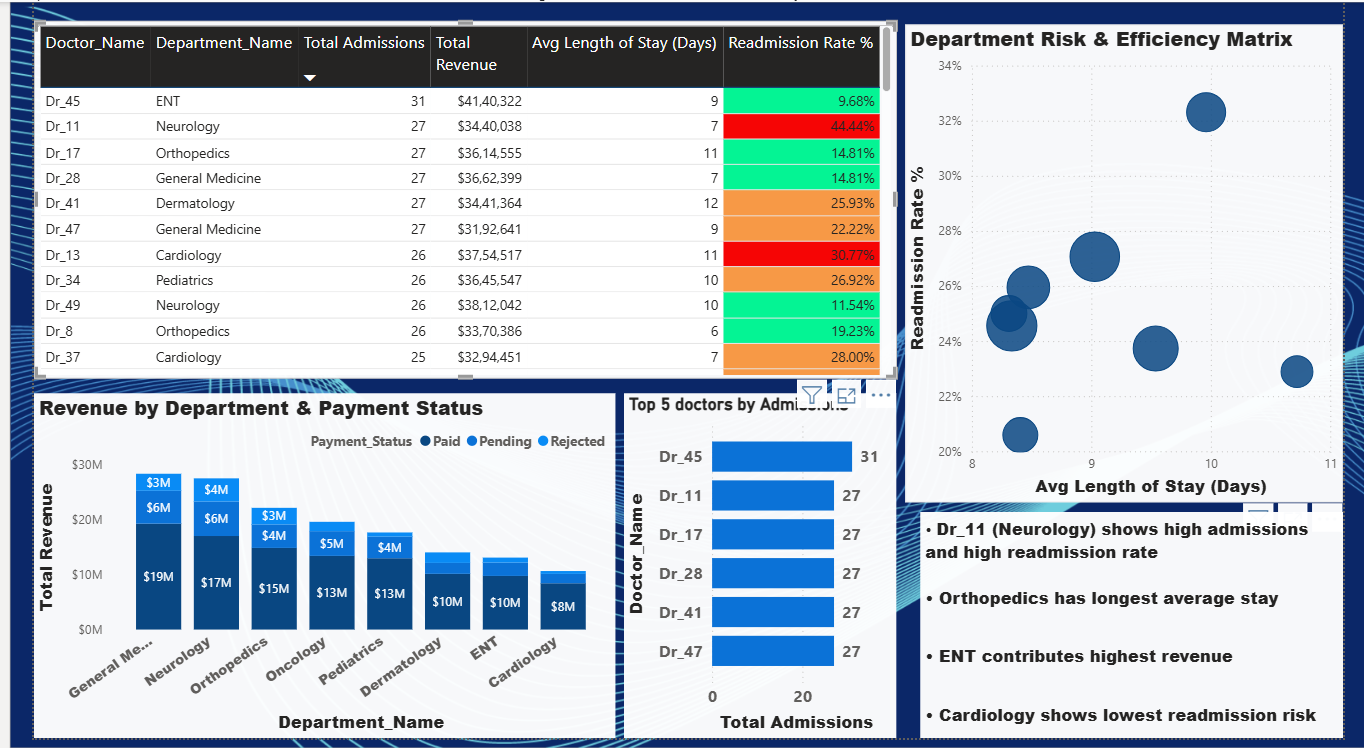

This screenshot's page, from the dashboard's own definition file:
{"tool":"powerbi","page":{"name":"Doctor and Department Analysis","canvas":[1280,720],"ordinal":1},"visuals":[{"type":"tableEx","fields":{"Values":["Doctors.Doctor_Name","Doctors.Department_Name","Total Admissions.Total Admissions","Total Admissions.Total Revenue","Admissions.Avg Length of Stay (Days)","Admissions.Readmission Rate %"]},"box":[0,18.3,843.8,349.7],"z":0},{"type":"scatterChart","title":"Department Risk & Efficiency Matrix","fields":{"Y":["Admissions.Readmission Rate %"],"Size":["Total Admissions.Total Admissions"],"Category":["Doctors.Department_Name"],"X":["Admissions.Avg Length of Stay (Days)"]},"box":[852.3,22,428,467.1],"z":1000},{"type":"clusteredBarChart","title":"Top 5 doctors by Admissions","fields":{"Category":["Doctors.Doctor_Name"],"Y":["Total Admissions.Total Admissions"]},"box":[577.2,382.7,266.6,337.5],"z":2000},{"type":"columnChart","title":"Revenue by Department & Payment Status","fields":{"Category":["Doctors.Department_Name"],"Y":["Total Admissions.Total Revenue"],"Series":["Billing.Payment_Status"]},"box":[0,382.7,568.6,337.5],"z":2001},{"type":"textbox","box":[867,498.9,413.3,221.3],"z":2002}]}

Visuals, with their boxes in screenshot pixels (x1, y1, x2, y2), scaled from the page's 1280x720 canvas onto the 1364x748 screenshot:
tableEx - Doctors.Doctor_Name x Doctors.Department_Name: <box>0,19,899,382</box>
"Department Risk & Efficiency Matrix" scatterChart: <box>908,23,1363,508</box>
"Top 5 doctors by Admissions" clusteredBarChart: <box>615,398,899,747</box>
"Revenue by Department & Payment Status" columnChart: <box>0,398,606,747</box>
textbox: <box>924,518,1363,747</box>
